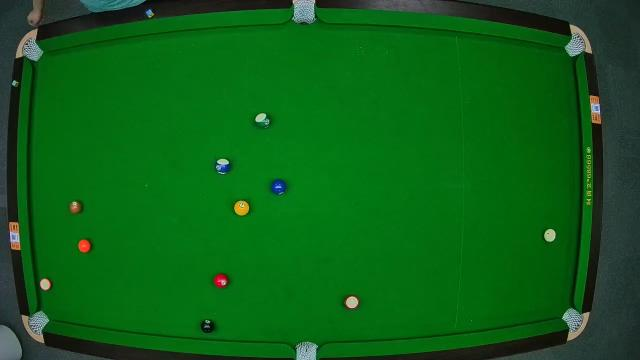bag1: (22, 40, 44, 62)
bag2: (293, 0, 317, 26)
bag3: (565, 31, 587, 57)
bag4: (28, 310, 50, 336)
bag5: (294, 340, 320, 360)
bag6: (562, 306, 584, 334)
ball0: (544, 228, 556, 243)
ball1: (233, 199, 250, 216)
ball10: (216, 158, 230, 176)
ball11: (344, 294, 361, 310)
ball14: (254, 111, 272, 129)
ball2: (271, 178, 287, 196)
ball3: (213, 272, 229, 290)
ball7: (70, 201, 82, 215)
ball8: (200, 318, 216, 334)
